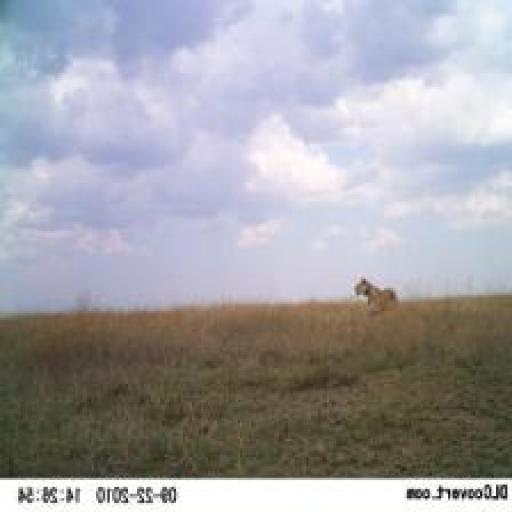lion: (341, 270, 408, 319)
